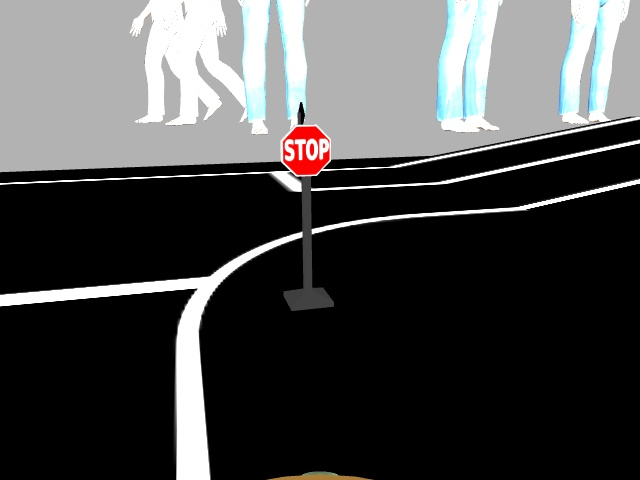Stop: (281, 124, 329, 176)
